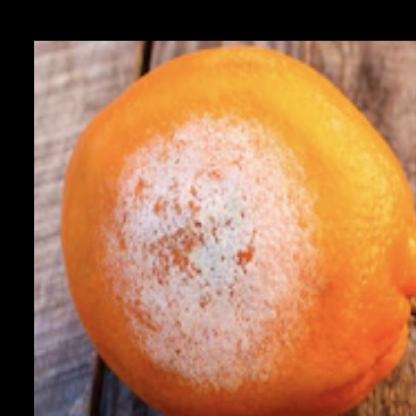rotten: (59, 45, 416, 416)
